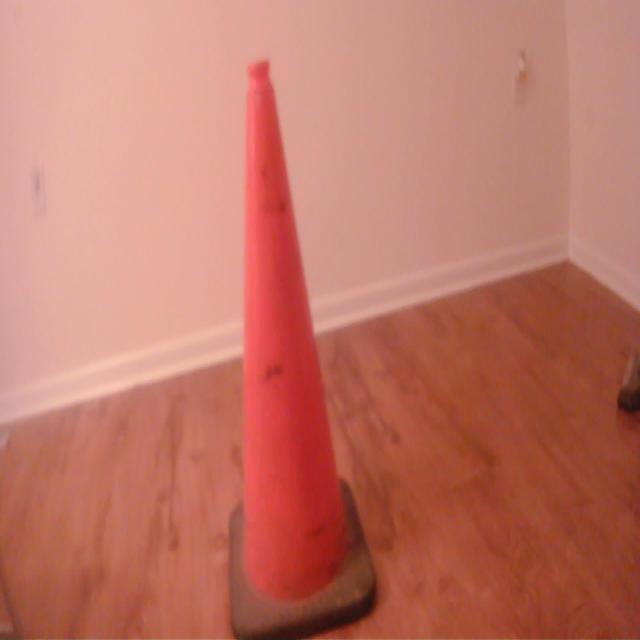traffic cone: (222, 51, 385, 640)
